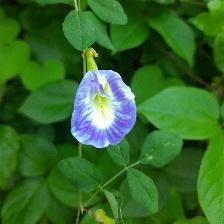shankupushpam: (69, 69, 140, 152)
